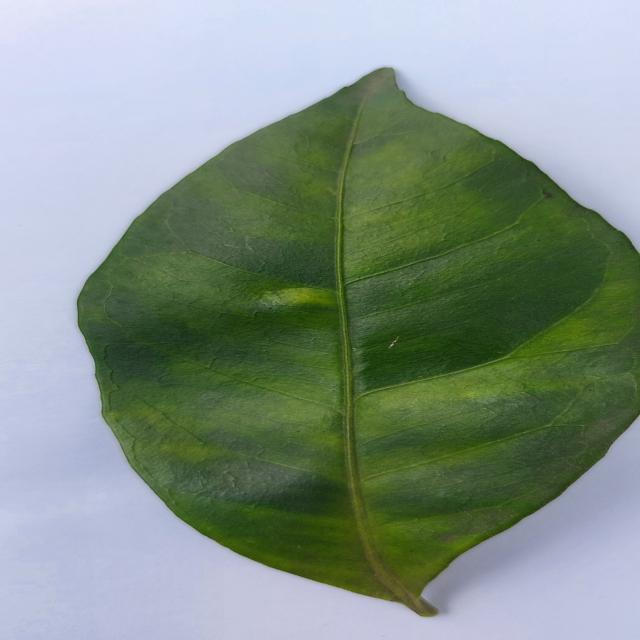greening: (78, 68, 640, 616)
